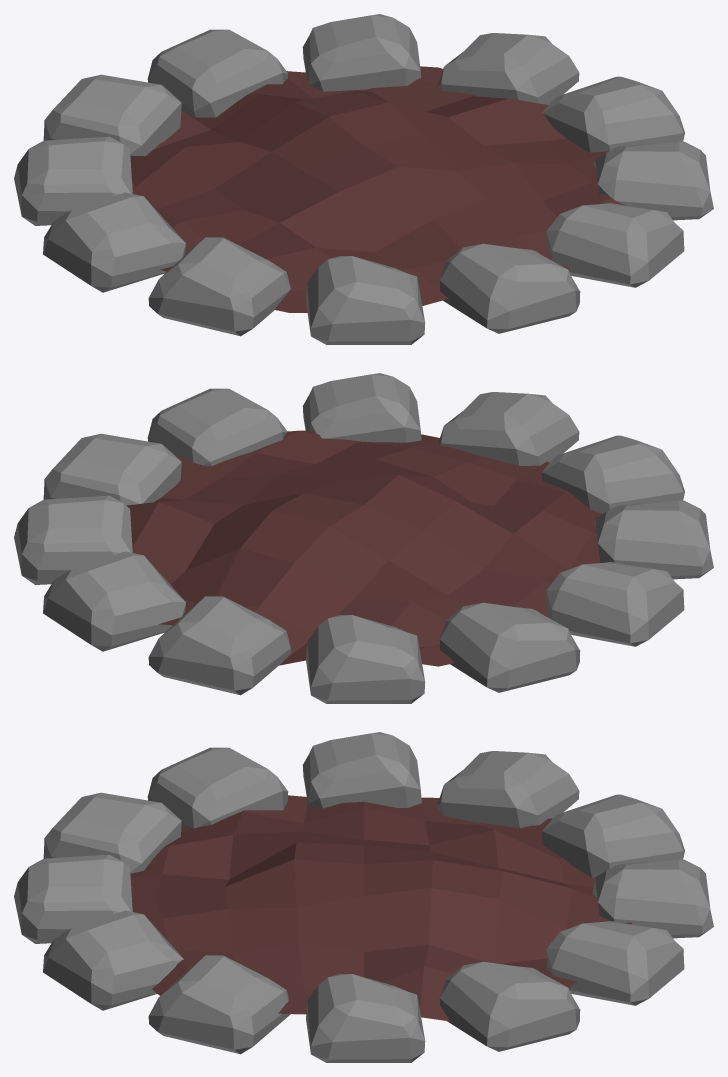
The model's file is Tree_place.fbx.
3 views of the same model, one above another, from view 1: azimuth 30°, elevation 25°; view 2: azimuth 150°, elevation 25°; view 3: azimuth 270°, elevation 25° (orthographic).
Parts seen in each view (by area): view 1: Rock circle, Soil_mound; view 2: Rock circle, Soil_mound; view 3: Rock circle, Soil_mound.
Part boxes in pixels (x1,y1,x2,y2): Rock circle: (14,14,713,344); Soil_mound: (130,66,625,312); Rock circle: (14,373,713,703); Soil_mound: (126,430,601,666); Rock circle: (14,732,713,1062); Soil_mound: (130,795,632,1021).
Size of the model in its own units: 410 by 410 by 41.92.
